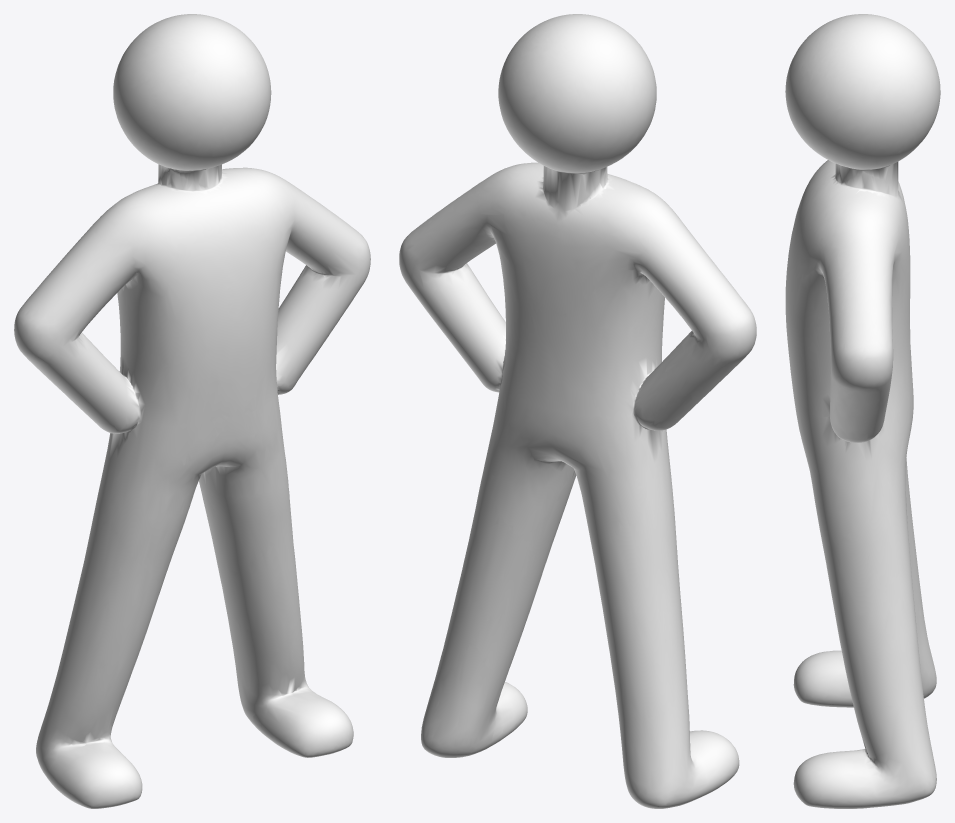
File: triunfo.glb
3 renders of one model, left to right at view 1: azimuth 30°, elevation 25°; view 2: azimuth 150°, elevation 25°; view 3: azimuth 270°, elevation 25°, orthographic. The views are drawn at different scales.
Visible parts, largest first — view 1: mesh_node; view 2: mesh_node; view 3: mesh_node.
Part boxes in pixels (x1,y1,x2,y2): mesh_node: (14,14,370,808); mesh_node: (399,14,756,808); mesh_node: (785,14,940,808).
Bounding box in the file's own units: 0.9837 × 2 × 0.3865.
Materials: 1 (1 with a texture image).
